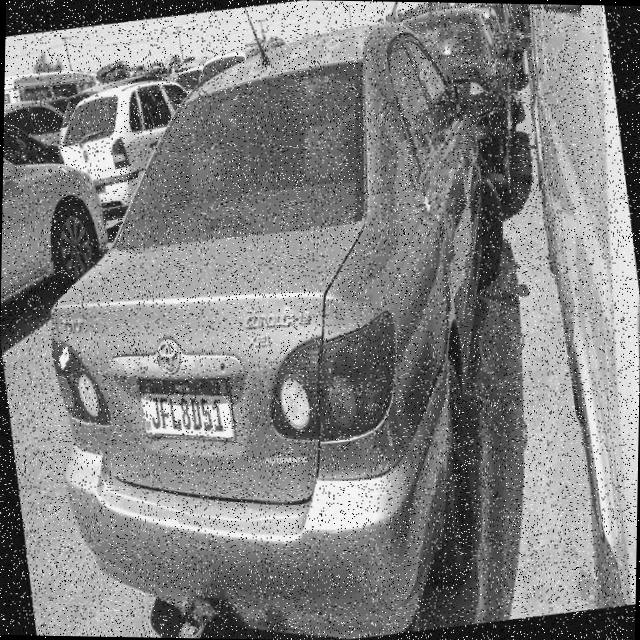Caractere: (199, 396, 214, 432), (167, 396, 182, 431), (210, 398, 225, 432), (189, 397, 204, 431), (178, 396, 192, 431), (148, 397, 162, 429), (158, 398, 171, 430)
